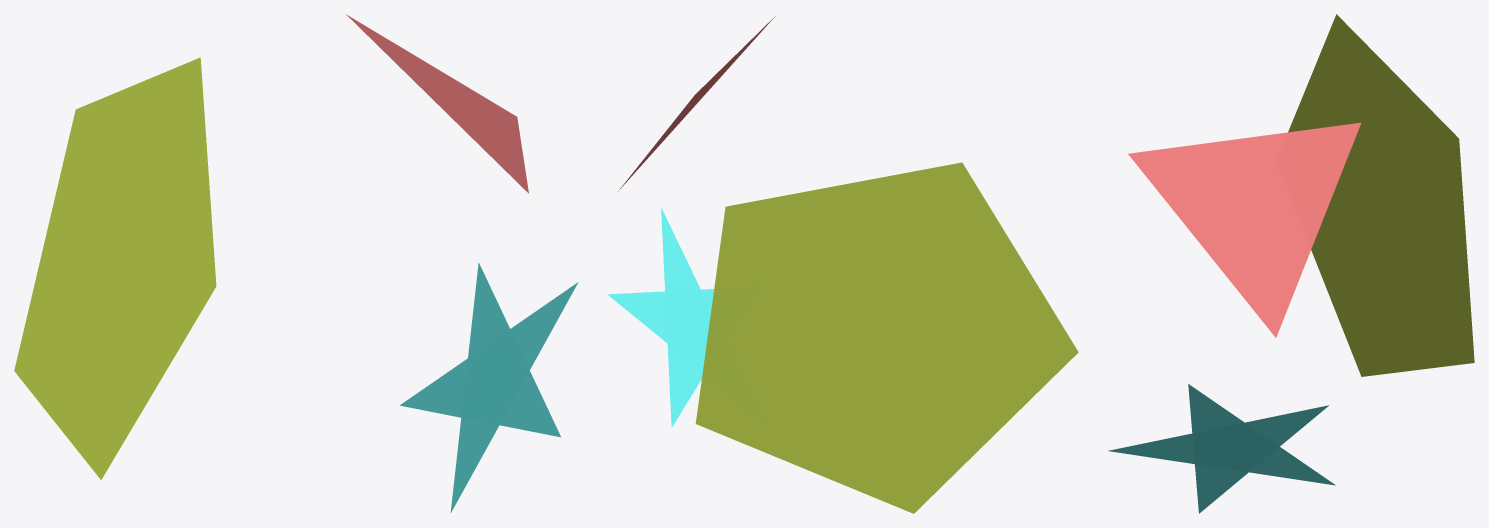
File: SnubIcosidodecadodecahedronF.obj
The picture shows the model from 3 angles, left to right: view 1: azimuth 30°, elevation 25°; view 2: azimuth 150°, elevation 25°; view 3: azimuth 270°, elevation 25°; orthographic projection. The views are drawn at different scales.
Size of the model in its own units: 2.21 by 1.79 by 1.55.
